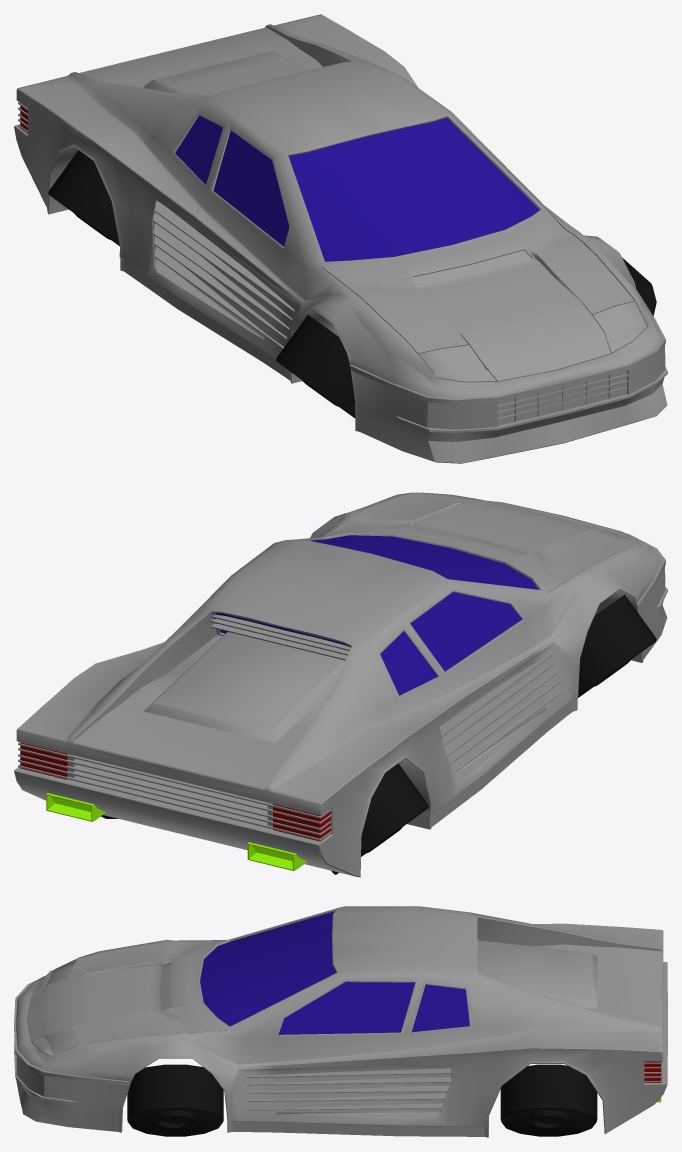
Rendered from bil3.FBX.
3 renders of one model, top to bottom at view 1: azimuth 30°, elevation 25°; view 2: azimuth 150°, elevation 25°; view 3: azimuth 270°, elevation 25°, orthographic. The views are drawn at different scales.
Parts seen in each view (by area): view 1: Kaross; view 2: Kaross; view 3: Kaross.
Boxes of the visible parts, box(x1,y1,x2,y2) form: Kaross: box(14, 14, 667, 463); Kaross: box(14, 492, 667, 877); Kaross: box(14, 906, 667, 1137).
Size of the model in its own units: 4013 by 2052 by 7726.
